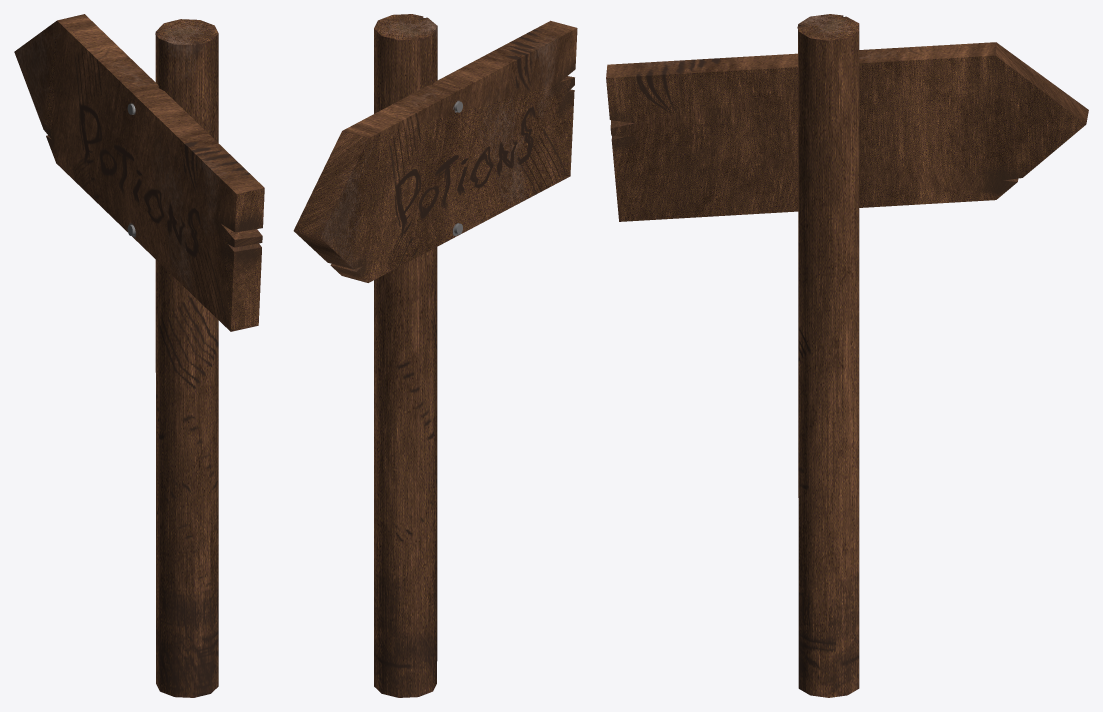
File: letrero.obj
3 renders of one model, left to right at view 1: azimuth 30°, elevation 25°; view 2: azimuth 150°, elevation 25°; view 3: azimuth 270°, elevation 25°, orthographic.
Parts seen in each view (by area): view 1: Letrero_v2_Material.001; view 2: Letrero_v2_Material.001; view 3: Letrero_v2_Material.001.
Boxes of the visible parts, left/top/right/bottom form: Letrero_v2_Material.001: left=14, top=14, right=264, bottom=697; Letrero_v2_Material.001: left=293, top=14, right=577, bottom=697; Letrero_v2_Material.001: left=606, top=14, right=1088, bottom=697.
Bounding box in the file's own units: 1.12 × 7.91 × 5.27.
